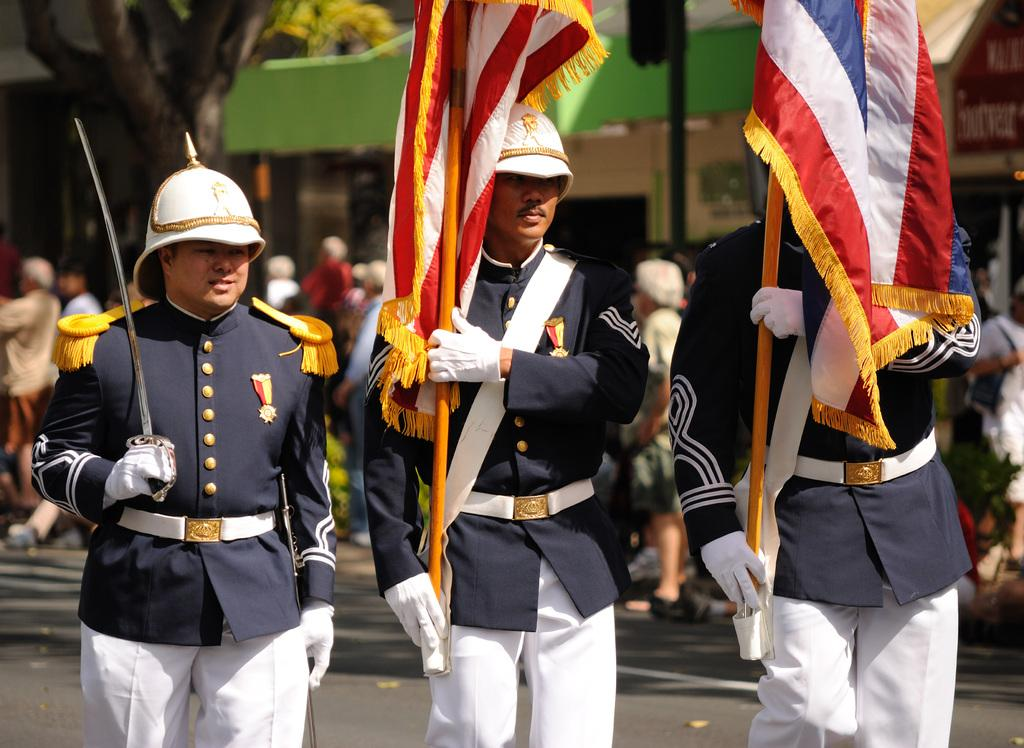Hat: (134, 132, 262, 301), (495, 93, 572, 201)
